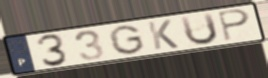3: (35, 33, 69, 68), (74, 29, 105, 61)
G: (107, 24, 147, 56)
K: (145, 18, 181, 51)
P: (216, 8, 253, 43)
U: (178, 11, 221, 47)
